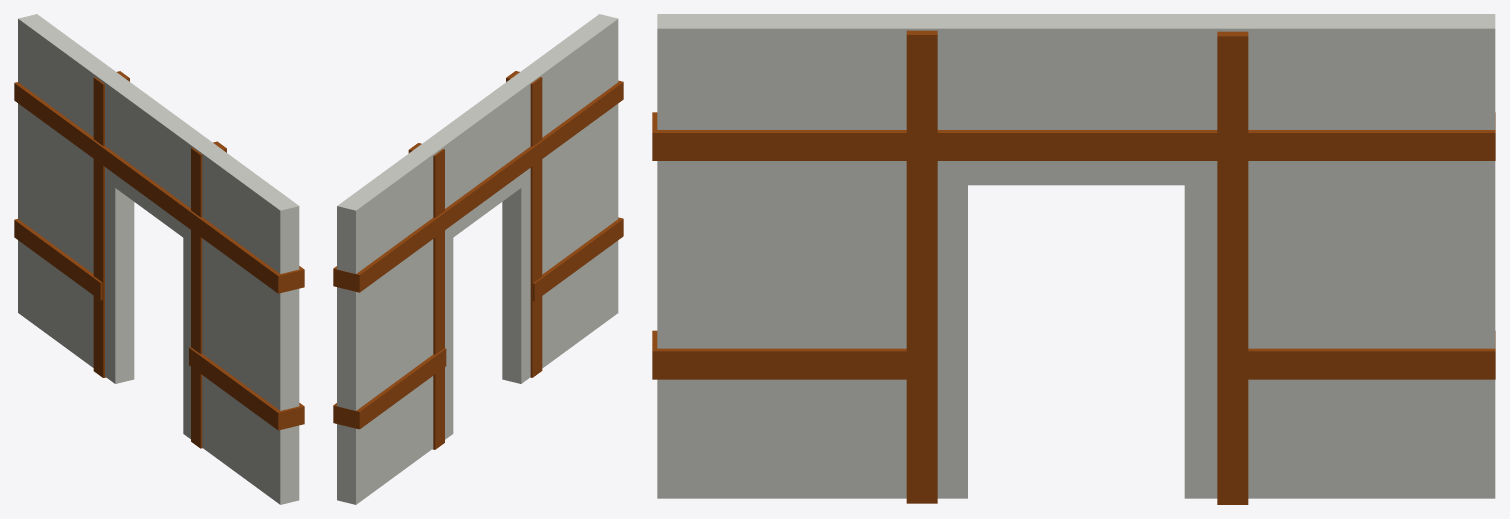
Rendered from OneDoorWall1.fbx.
3 renders of one model, left to right at view 1: azimuth 30°, elevation 25°; view 2: azimuth 150°, elevation 25°; view 3: azimuth 270°, elevation 25°, orthographic. The views are drawn at different scales.
Parts seen in each view (by area): view 1: OneDoorWall1; view 2: OneDoorWall1; view 3: OneDoorWall1.
Boxes of the visible parts, left/top/right/bottom form: OneDoorWall1: left=14, top=14, right=304, bottom=504; OneDoorWall1: left=333, top=14, right=623, bottom=504; OneDoorWall1: left=652, top=14, right=1495, bottom=504.
Bounding box in the file's own units: 113 × 1115 × 1806.
